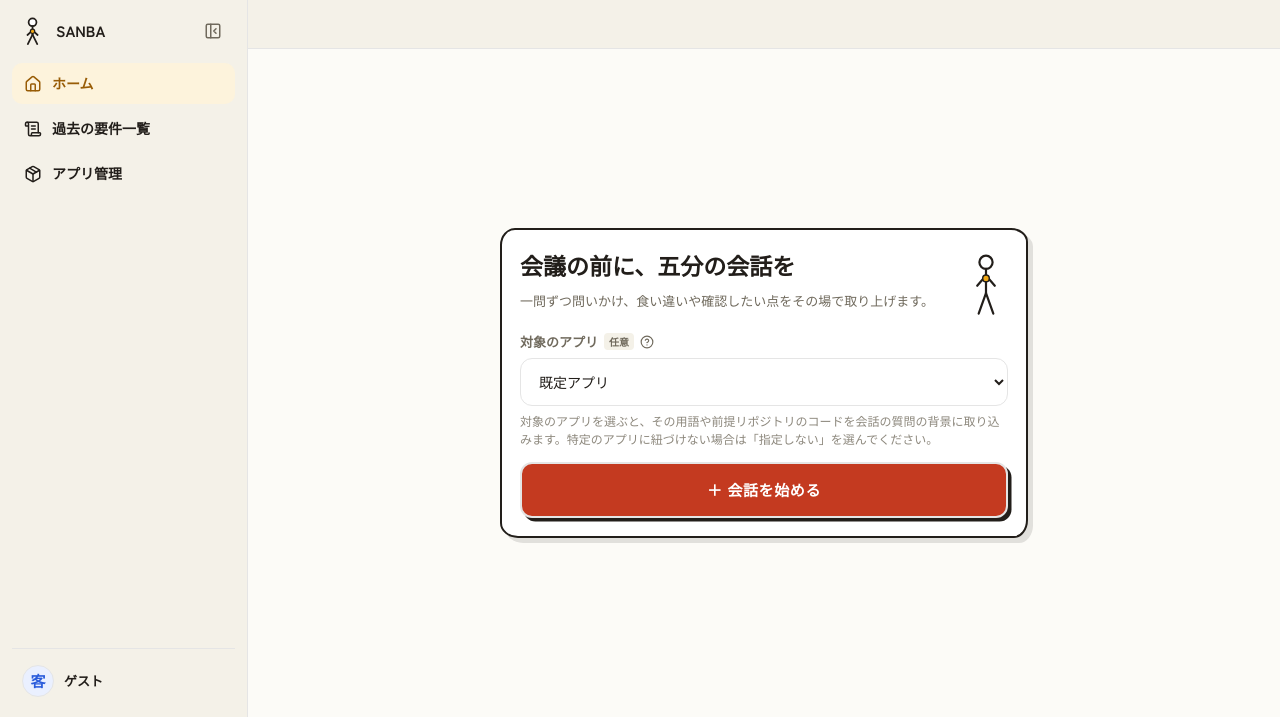
Test: 入口フロー（#140） › ログイン済みでも同意 OFF の間は開始が無効で理由を示す
Click the button "＋ 会話を始める" at (764, 490), box [520,462,1008,518]
(page scrolled)
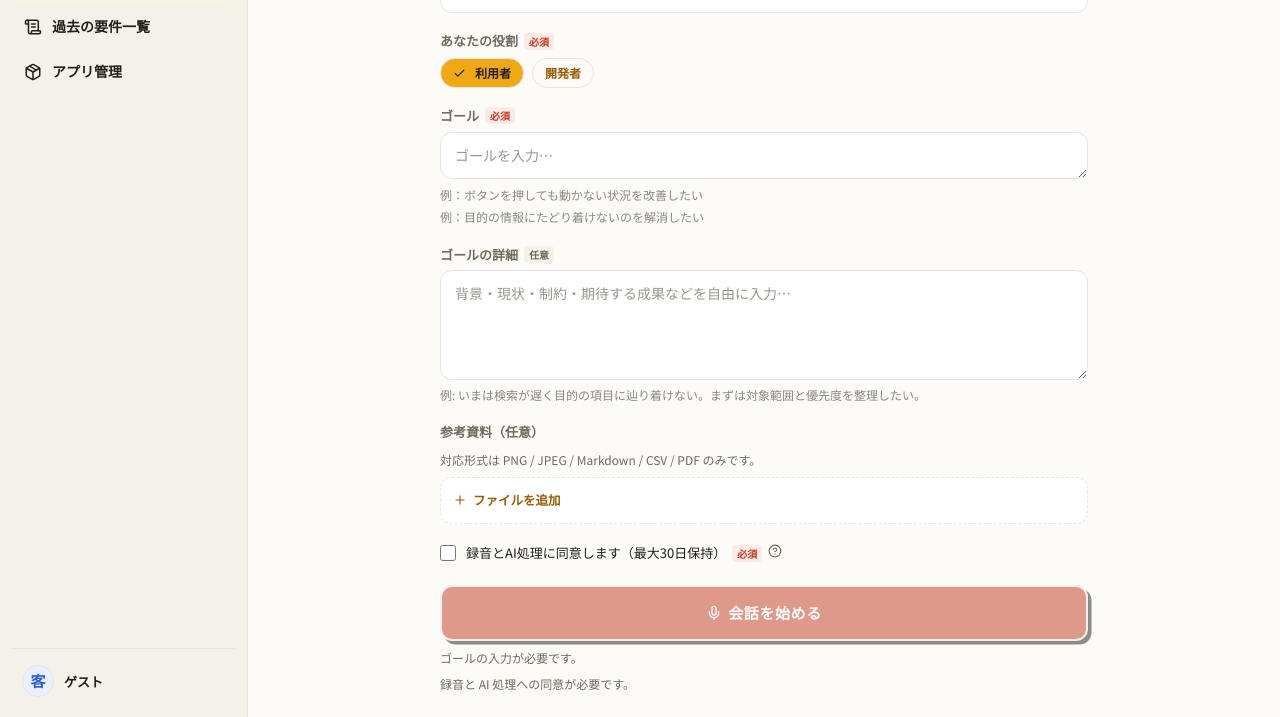
Expected: the button "会話を始める" is disabled, [440,585,1088,641]
Result: the text "録音と AI 処理への同意が必要です。" is shown at [440,675,635,692]
